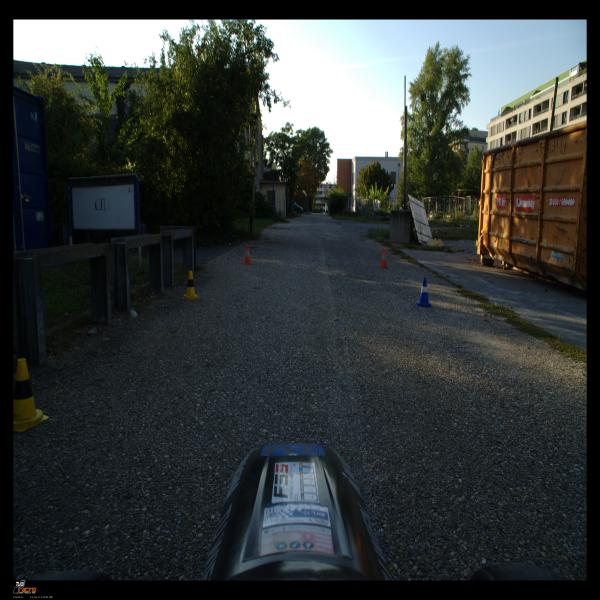blue_cone: (416, 275, 432, 308)
orange_cone: (379, 248, 389, 268), (243, 245, 252, 264)
yellow_cone: (14, 358, 50, 432), (181, 270, 200, 300)
